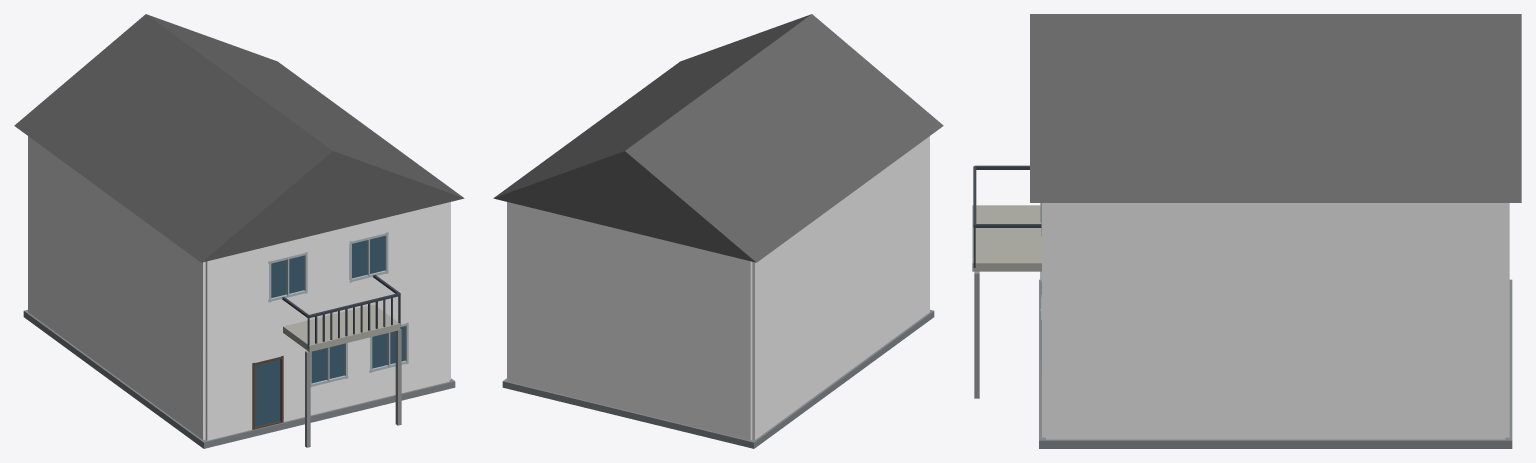
The model's file is japanese-house.obj.
3 renders of one model, left to right at view 1: azimuth 30°, elevation 25°; view 2: azimuth 150°, elevation 25°; view 3: azimuth 270°, elevation 25°, orthographic. The views are drawn at different scales.
Parts seen in each view (by area): view 1: roof, side_wall, foundation, front_wall.004, balcony_floor, front_wall.060, front_wall.005, front_wall.002, front_wall.061, door_glass, front_wall.058, front_wall.001 (+26 smaller); view 2: roof, back_wall, side_wall, foundation; view 3: side_wall.001, roof, foundation, balcony_floor, back_wall, support.001.
Part boxes in pixels (bbox=[...]): roof: bbox=[14, 14, 464, 262]; side_wall: bbox=[28, 136, 205, 440]; foundation: bbox=[23, 310, 455, 448]; front_wall.004: bbox=[205, 304, 253, 372]; balcony_floor: bbox=[283, 304, 400, 351]; front_wall.060: bbox=[407, 257, 449, 323]; front_wall.005: bbox=[205, 266, 253, 315]; front_wall.002: bbox=[205, 365, 252, 410]; front_wall.061: bbox=[407, 218, 449, 266]; door_glass: bbox=[255, 359, 280, 426]; front_wall.058: bbox=[408, 316, 449, 361]; front_wall.001: bbox=[205, 400, 252, 440]; roof: bbox=[493, 14, 943, 262]; back_wall: bbox=[508, 202, 752, 440]; side_wall: bbox=[752, 136, 929, 440]; foundation: bbox=[502, 310, 934, 448]; side_wall.001: bbox=[1046, 203, 1505, 439]; roof: bbox=[1030, 14, 1521, 202]; foundation: bbox=[1039, 279, 1512, 448]; balcony_floor: bbox=[972, 205, 1041, 271]; back_wall: bbox=[1505, 203, 1509, 437]; support.001: bbox=[974, 271, 979, 398].
Size of the model in its own units: 8.7 by 8.51 by 11.95.
